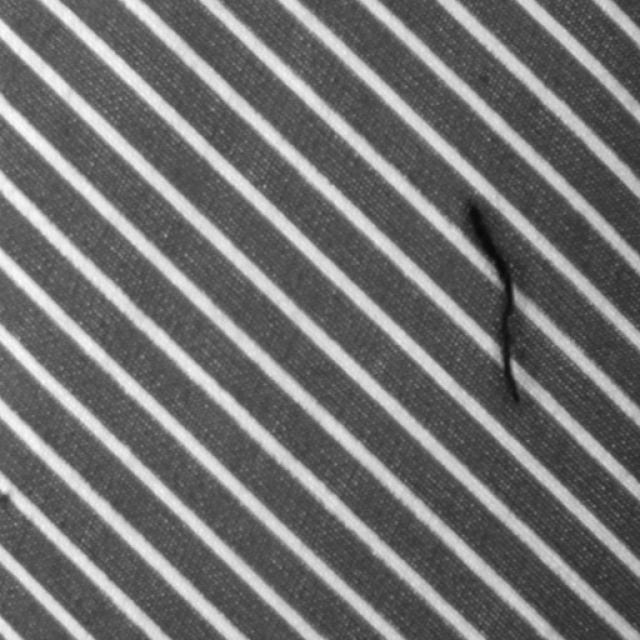Foreign-Body-Defect: (456, 195, 522, 408)
